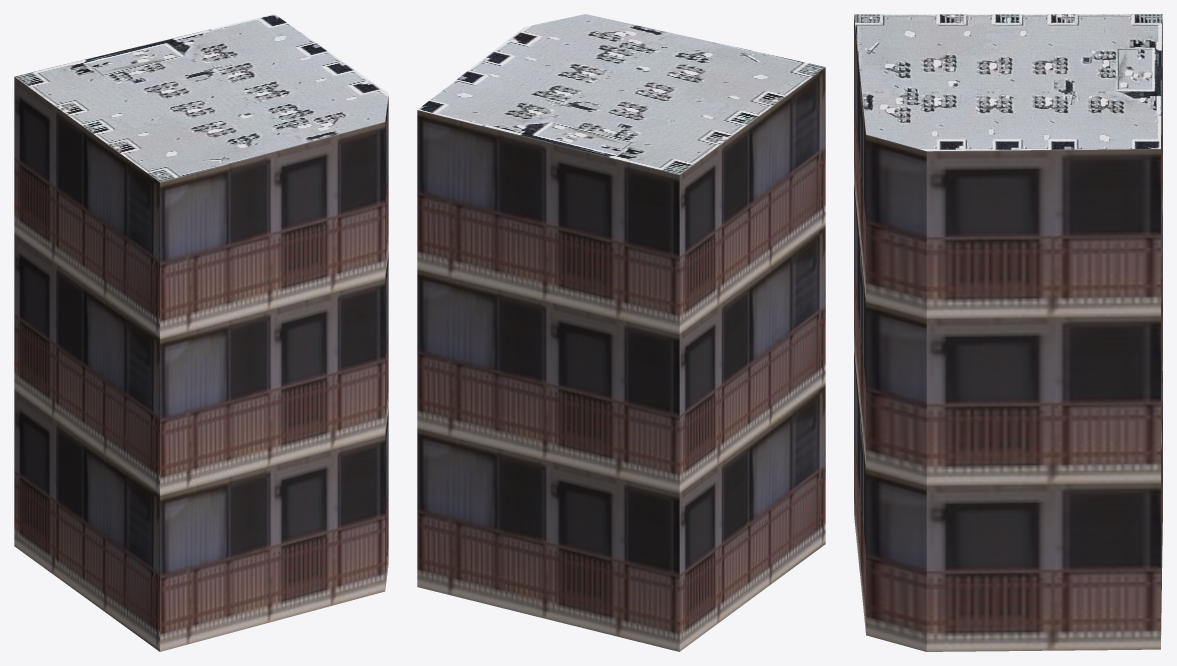
The model's file is ResTex__2638.fbx.
3 renders of one model, left to right at view 1: azimuth 30°, elevation 25°; view 2: azimuth 150°, elevation 25°; view 3: azimuth 270°, elevation 25°, orthographic. The views are drawn at different scales.
Visible parts, largest first — view 1: CityEngineMaterial_6_m, CityEngineMaterial_4_m; view 2: CityEngineMaterial_6_m, CityEngineMaterial_4_m; view 3: CityEngineMaterial_6_m, CityEngineMaterial_4_m.
Part boxes in pixels (bbox=[...]): CityEngineMaterial_6_m: bbox=[14, 77, 388, 651]; CityEngineMaterial_4_m: bbox=[14, 14, 388, 182]; CityEngineMaterial_6_m: bbox=[417, 67, 825, 651]; CityEngineMaterial_4_m: bbox=[417, 14, 825, 174]; CityEngineMaterial_6_m: bbox=[854, 16, 1162, 651]; CityEngineMaterial_4_m: bbox=[854, 14, 1162, 151].
Bounding box in the file's own units: 5.29 × 9 × 5.03.
Materials: 2 (2 with a texture image).
